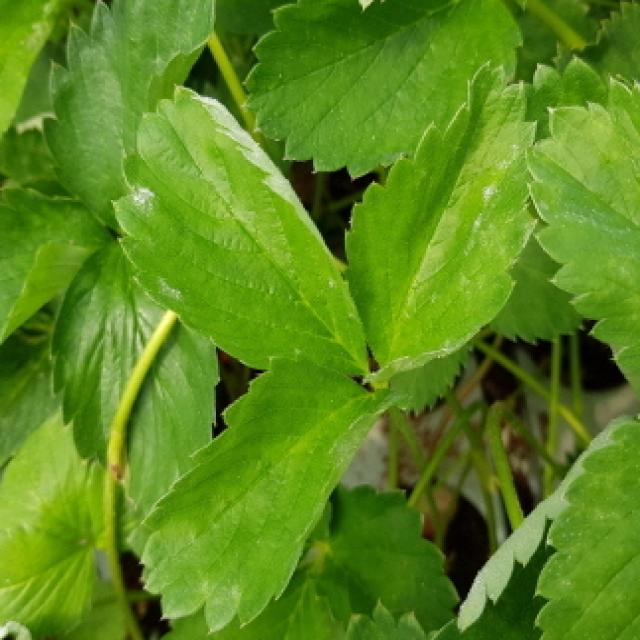Powdery Mildew Leaf: (111, 79, 371, 378), (345, 58, 542, 384), (243, 0, 524, 181), (430, 449, 585, 640)
